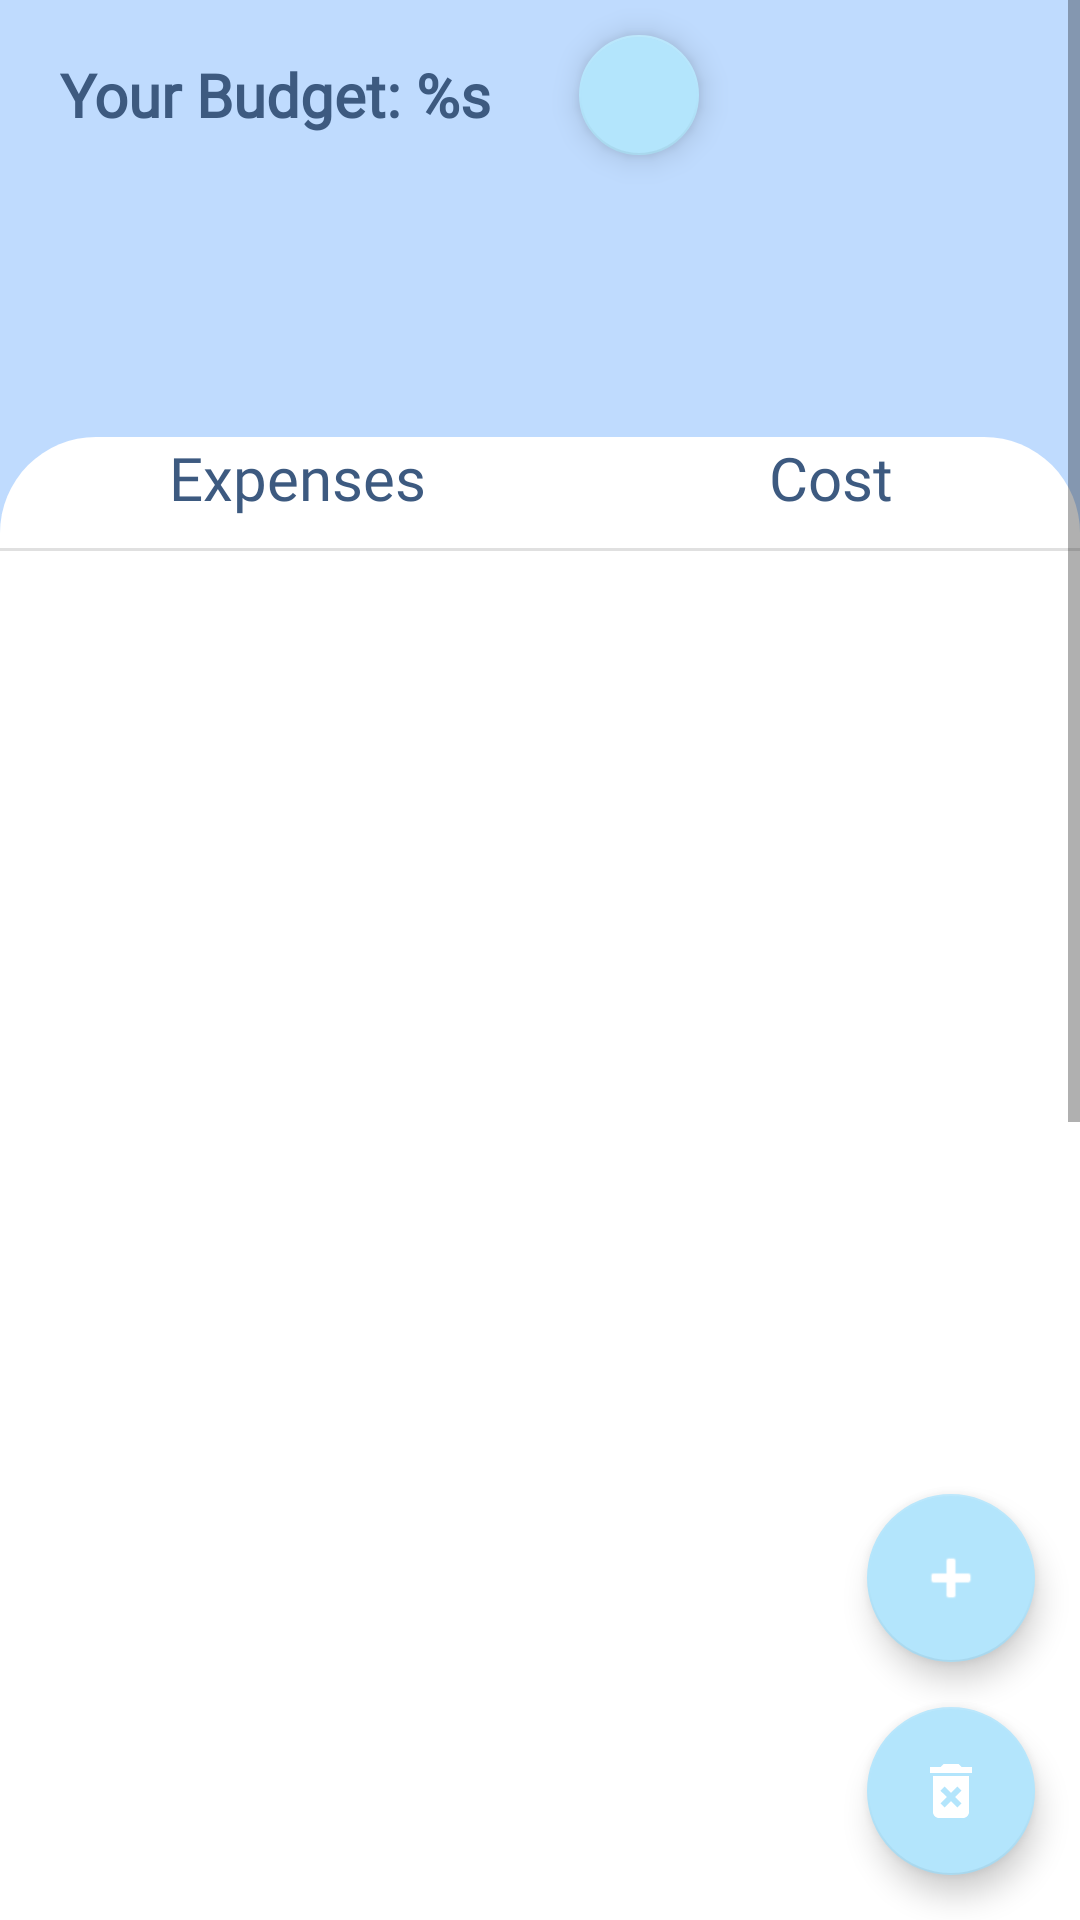

Where icons sit on this 1080w x 1920h app screen, as [x1, y1, x2, y2]:
Add New Expense: [867, 1494, 1035, 1662]
Delete all records: [867, 1707, 1035, 1875]
